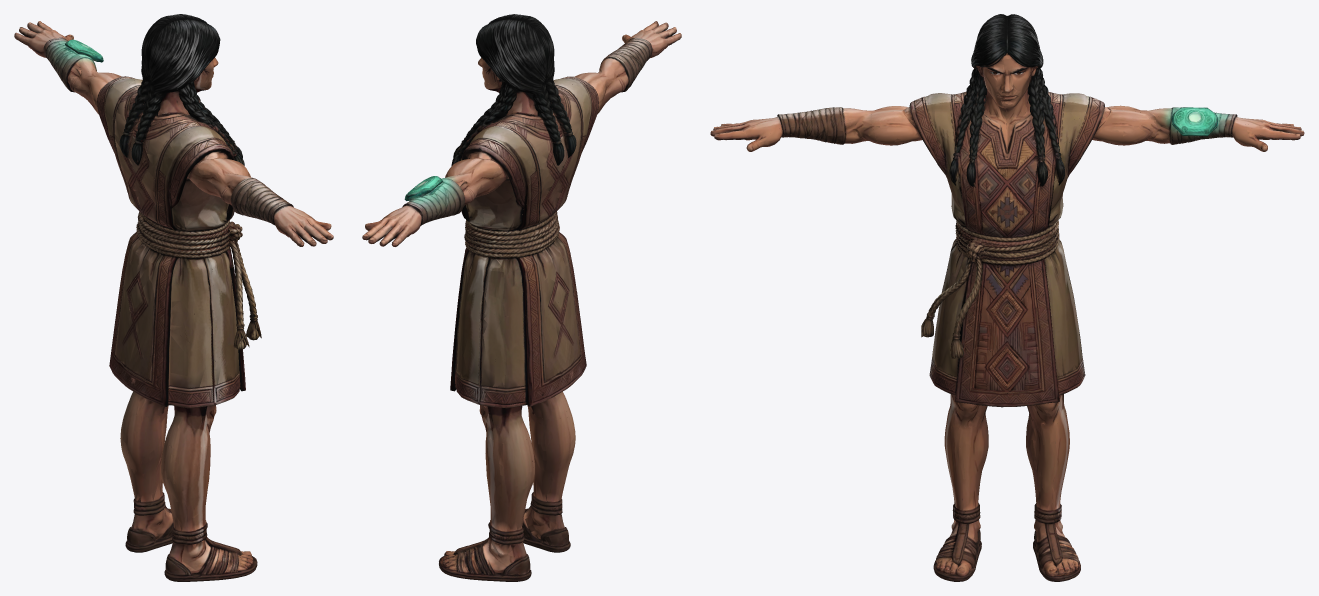
The model's file is yari_3d_model_game_ready.fbx.
The picture shows the model from 3 angles, left to right: view 1: azimuth 30°, elevation 25°; view 2: azimuth 150°, elevation 25°; view 3: azimuth 270°, elevation 25°; orthographic projection.
Visible parts, largest first — view 1: tripo_node_d94d9c4d-cdb5-4340-bbef-338a8f48f6f7; view 2: tripo_node_d94d9c4d-cdb5-4340-bbef-338a8f48f6f7; view 3: tripo_node_d94d9c4d-cdb5-4340-bbef-338a8f48f6f7.
Part boxes in pixels (left/top/right/bottom): tripo_node_d94d9c4d-cdb5-4340-bbef-338a8f48f6f7: left=14, top=14, right=333, bottom=581; tripo_node_d94d9c4d-cdb5-4340-bbef-338a8f48f6f7: left=362, top=14, right=681, bottom=581; tripo_node_d94d9c4d-cdb5-4340-bbef-338a8f48f6f7: left=710, top=14, right=1304, bottom=581.
Size of the model in its own units: 20.49 by 97.89 by 97.82.
